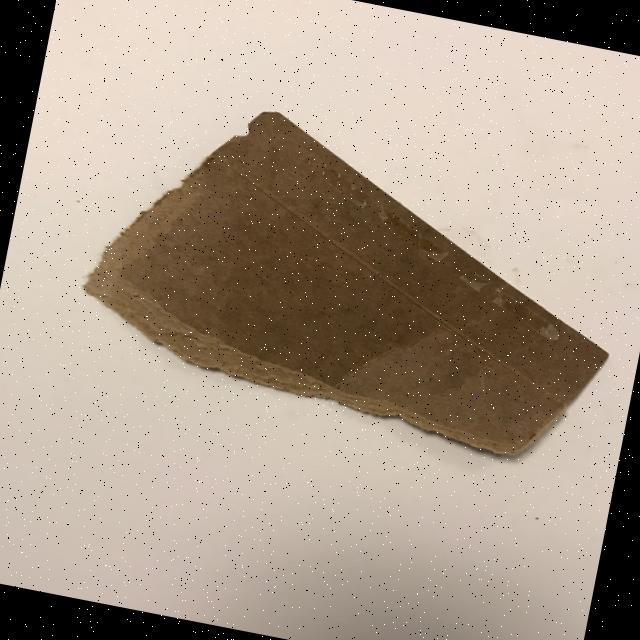paper: (65, 80, 640, 472)
